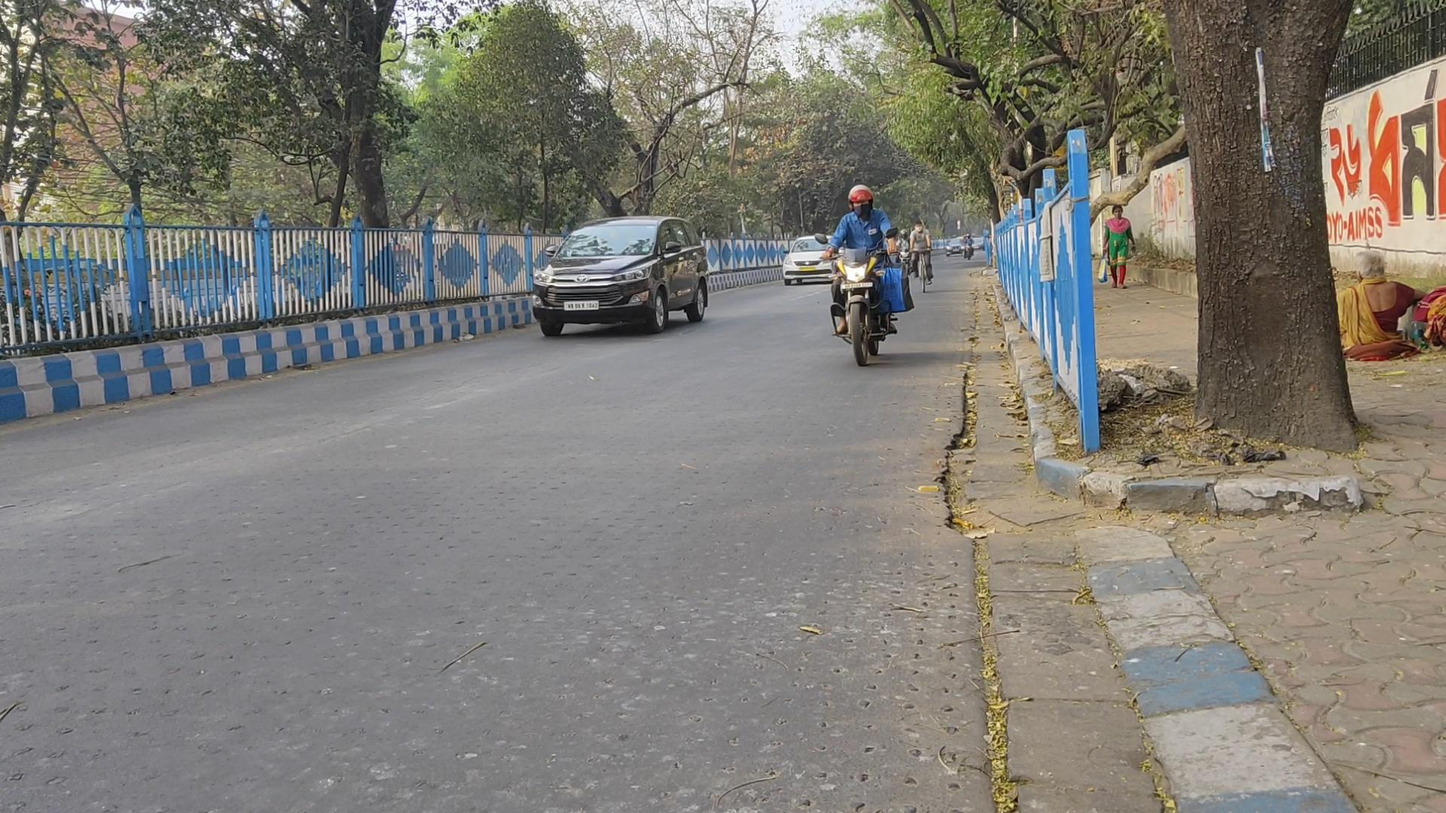bike: (818, 186, 908, 366), (908, 221, 934, 294)
car: (532, 216, 709, 334), (784, 235, 840, 288)
